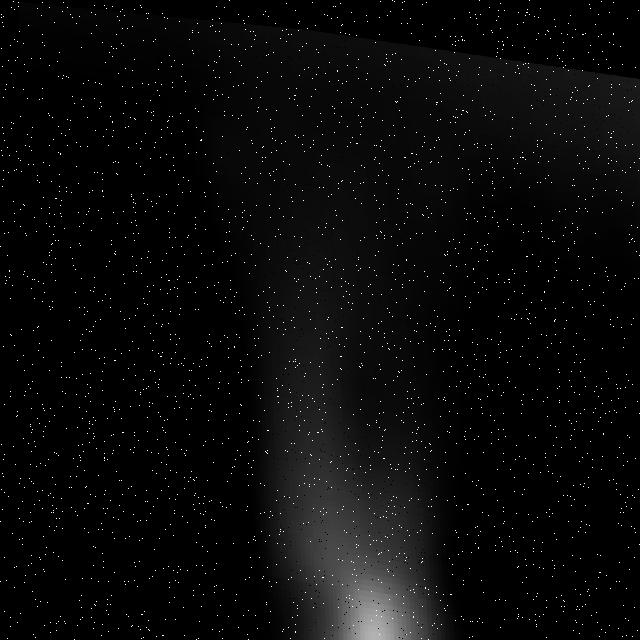person: (184, 190, 461, 640)
